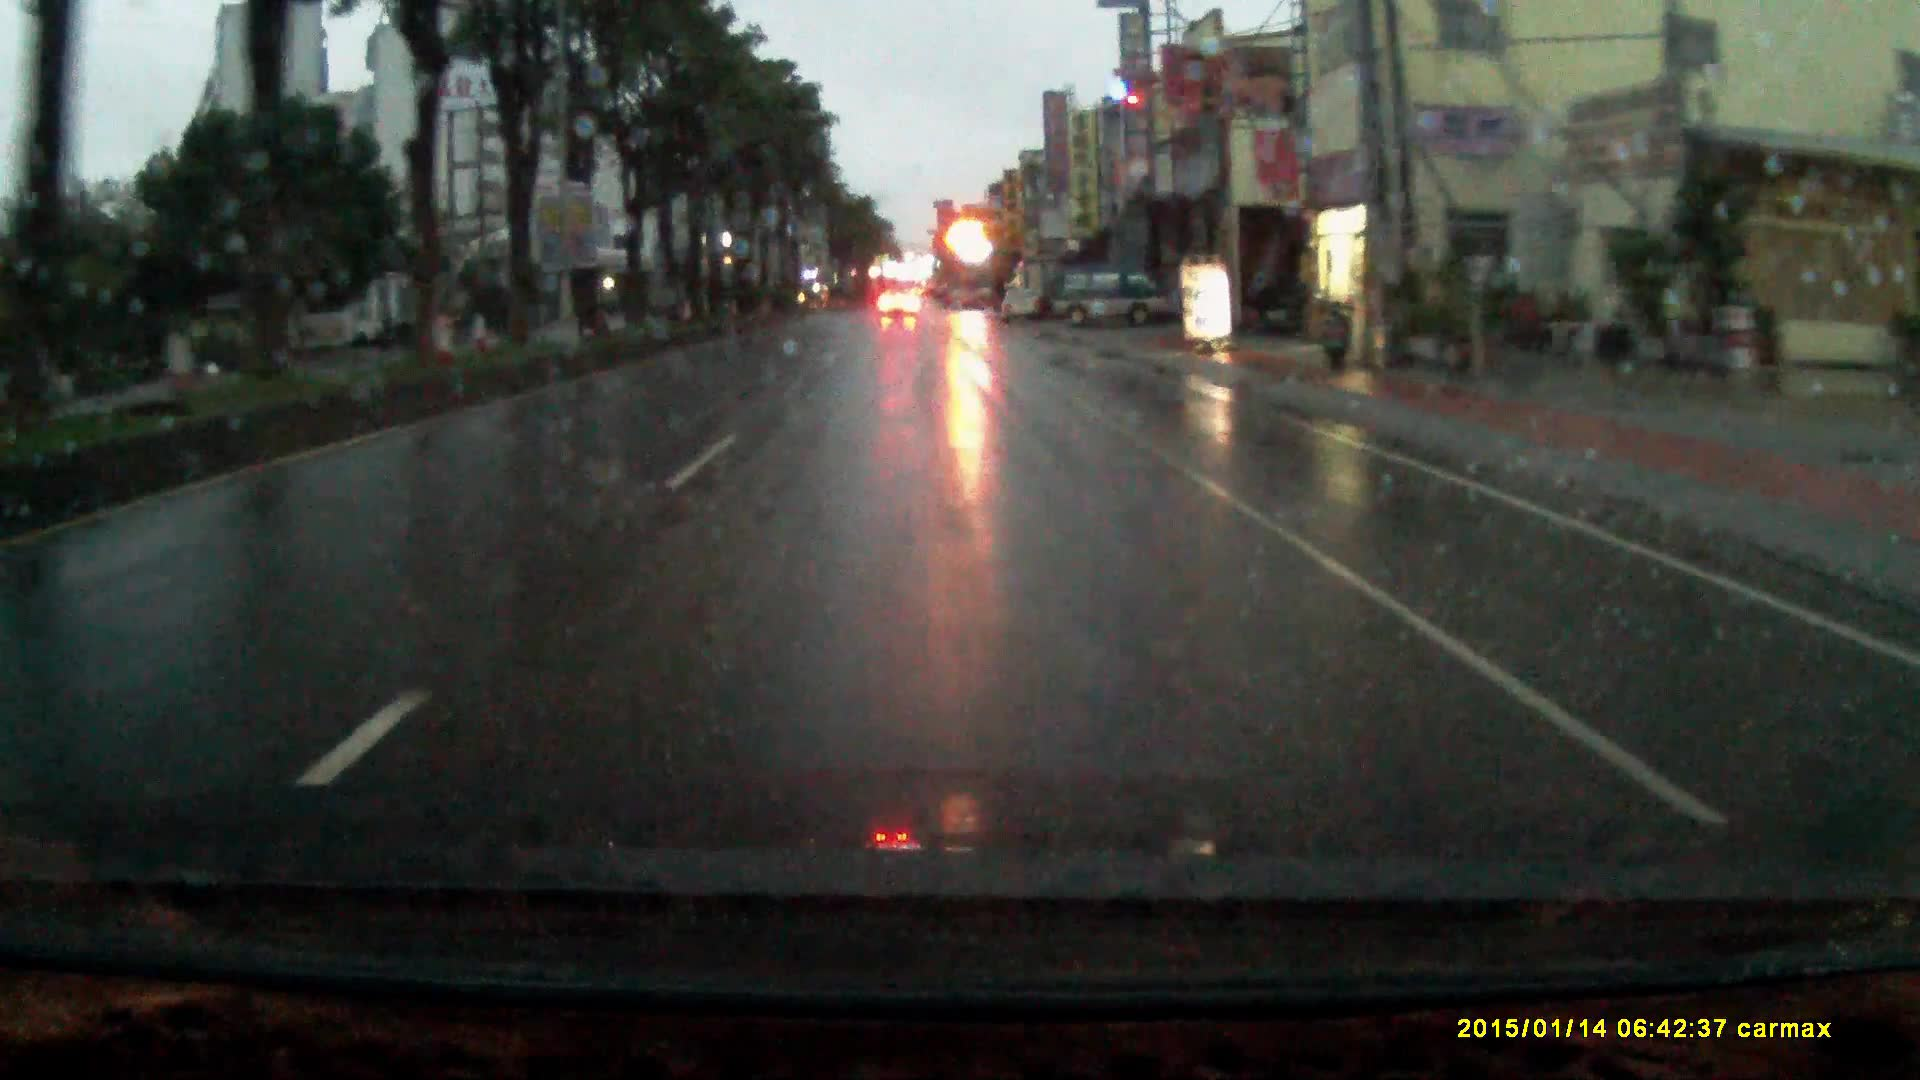vehicle: (1052, 272, 1174, 338), (1000, 290, 1043, 324), (877, 287, 920, 320)
